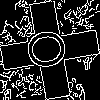O: (25, 25, 77, 72)
